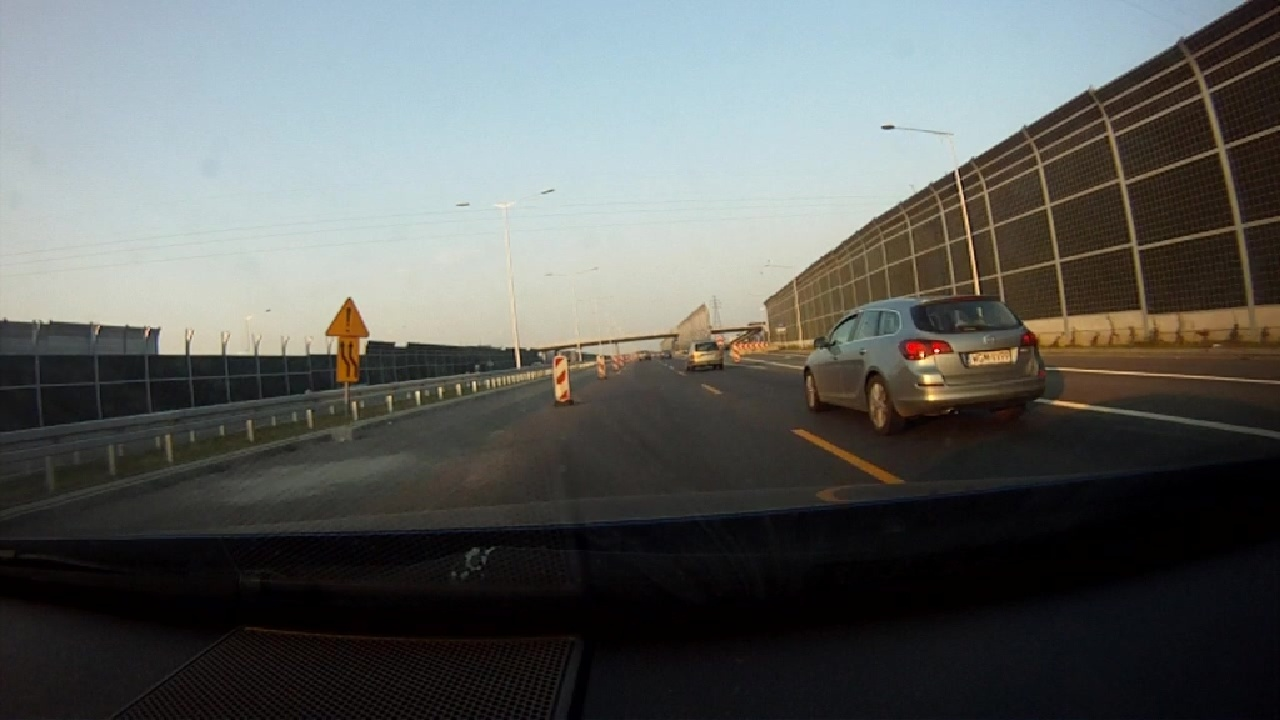A30: (325, 296, 370, 337)
